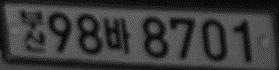0: (200, 17, 227, 62)
1: (231, 17, 257, 62)
7: (169, 16, 195, 59)
8: (141, 15, 169, 58), (76, 12, 103, 54)
9: (47, 10, 72, 53)
바: (103, 17, 131, 55)
부산_V: (19, 9, 46, 52)
